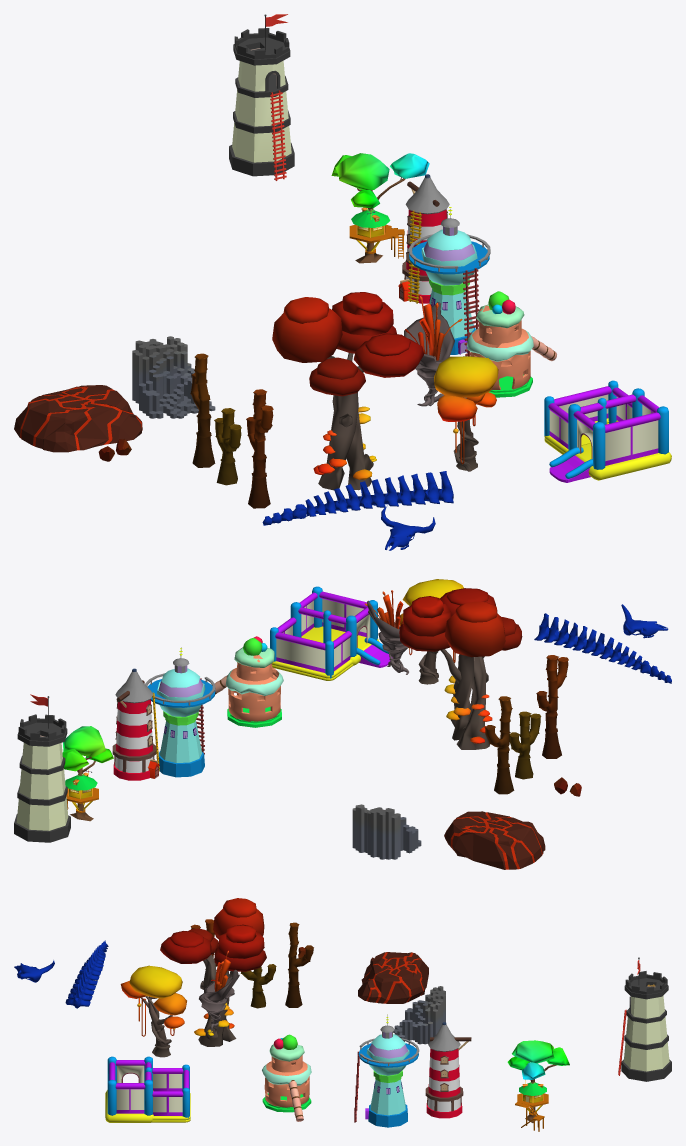
Rendered from ITEM.fbx.
The picture shows the model from 3 angles, top to bottom: view 1: azimuth 30°, elevation 25°; view 2: azimuth 150°, elevation 25°; view 3: azimuth 270°, elevation 25°; orthographic projection. The views are drawn at different scales.
Parts seen in each view (by area): view 1: Ancient_3.001_Ancient_texture_0, 2, 8, PP_Hill_Lava_16_PP_Standard_Material_0, Empty_Parent_4, 4, Empty_Parent_6, aufgang_geo_lambert3_0, Jungle_3.001_Jungle_texture_0, bone, Empty_Parent_5, Khali_5.001_Khali_texture_0 (+5 smaller); view 2: Ancient_3.001_Ancient_texture_0, 2, 8, Empty_Parent_4, PP_Hill_Lava_16_PP_Standard_Material_0, 4, Empty_Parent_5, aufgang_geo_lambert3_0, Empty_Parent_6, bone, defaultMaterial.001, Khali_5.001_Khali_texture_0 (+4 smaller); view 3: Ancient_3.001_Ancient_texture_0, 2, 8, Empty_Parent_4, Jungle_3.001_Jungle_texture_0, 4, PP_Hill_Lava_16_PP_Standard_Material_0, Empty_Parent_5, Empty_Parent_6, aufgang_geo_lambert3_0, Khali_5.001_Khali_texture_0, bone (+3 smaller).
Boxes of the visible parts, x1,y1,x2,y2 form: Ancient_3.001_Ancient_texture_0: (272,292,423,490); 2: (544,380,671,482); 8: (229,14,294,176); PP_Hill_Lava_16_PP_Standard_Material_0: (14,385,142,452); Empty_Parent_4: (409,207,490,356); 4: (467,291,556,397); Empty_Parent_6: (331,153,429,263); aufgang_geo_lambert3_0: (132,336,215,418); Jungle_3.001_Jungle_texture_0: (434,356,498,471); bone: (262,471,453,525); Empty_Parent_5: (398,174,449,303); Khali_5.001_Khali_texture_0: (404,296,462,406); Ancient_3.001_Ancient_texture_0: (399,588,522,749); 2: (270,586,392,680); 8: (14,694,70,842); Empty_Parent_4: (145,647,215,777); PP_Hill_Lava_16_PP_Standard_Material_0: (444,811,545,869); 4: (214,636,283,727); Empty_Parent_5: (112,668,159,780); aufgang_geo_lambert3_0: (352,804,421,859); Empty_Parent_6: (62,726,113,821); bone: (534,613,671,683); defaultMaterial.001: (536,655,568,758); Khali_5.001_Khali_texture_0: (364,590,408,674); Ancient_3.001_Ancient_texture_0: (160,898,266,1046); 2: (105,1056,190,1122); 8: (621,957,671,1081); Empty_Parent_4: (354,1014,419,1127); Jungle_3.001_Jungle_texture_0: (120,965,186,1057); 4: (262,1034,311,1121); PP_Hill_Lava_16_PP_Standard_Material_0: (358,952,428,1003); Empty_Parent_5: (425,1022,471,1118); Empty_Parent_6: (507,1040,569,1131); aufgang_geo_lambert3_0: (393,986,445,1044); Khali_5.001_Khali_texture_0: (199,950,239,1032); bone: (65,940,108,1008).
Size of the model in its own units: 83.46 by 35.59 by 129.
